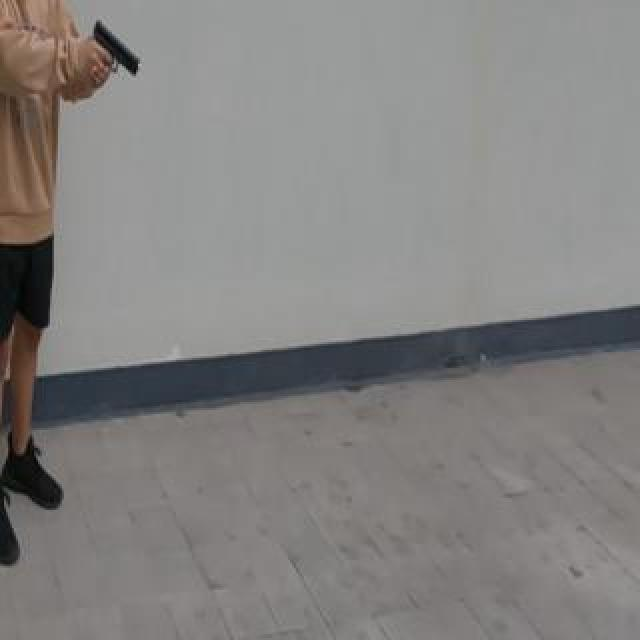Guns: (81, 3, 151, 96)
